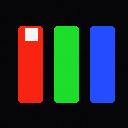1 square: (25, 28, 37, 40)
